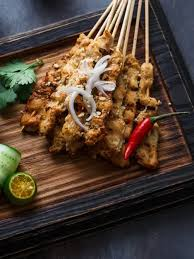sate: (10, 25, 194, 179)
